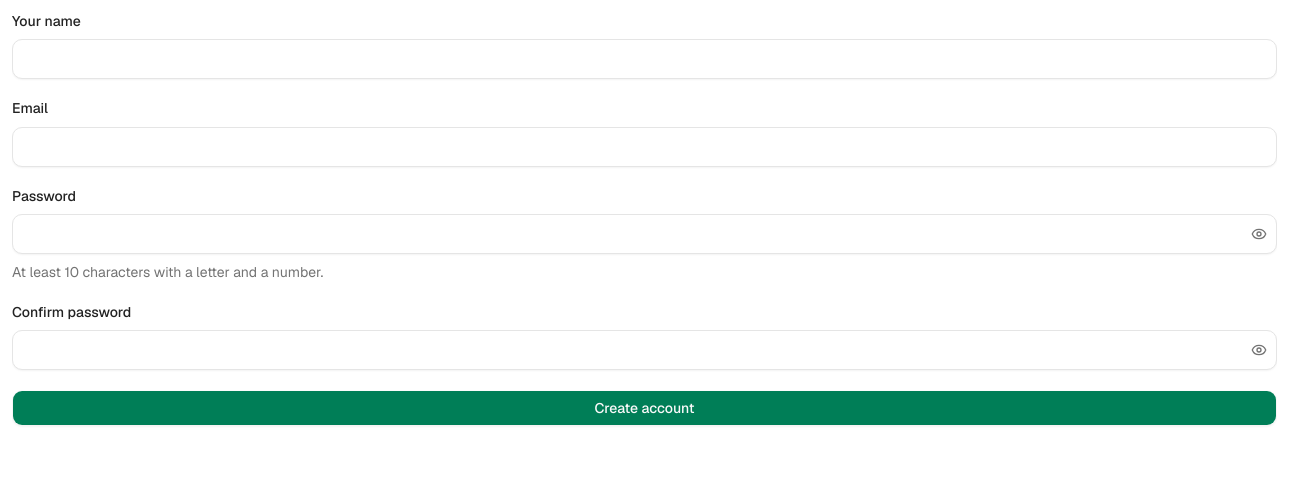
SignupForm › enforces password policy and confirmation
Type "Asha" into the field labelled "Your name" at (644, 59), box left=12, top=39, right=1277, bottom=79
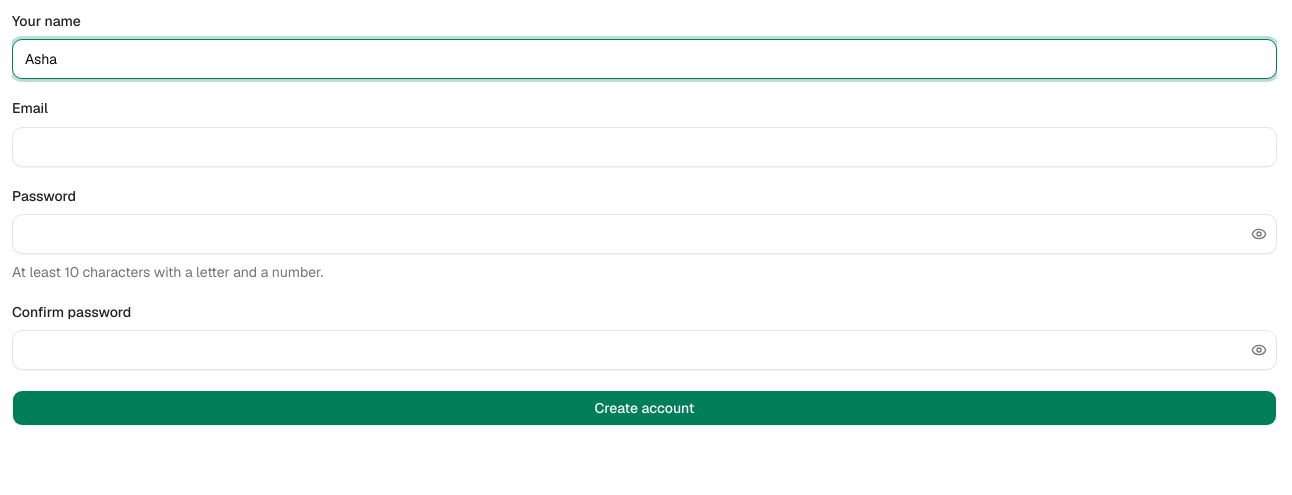
Type "asha@example.com" into the field labelled "Email" at (644, 146), box left=12, top=126, right=1277, bottom=166
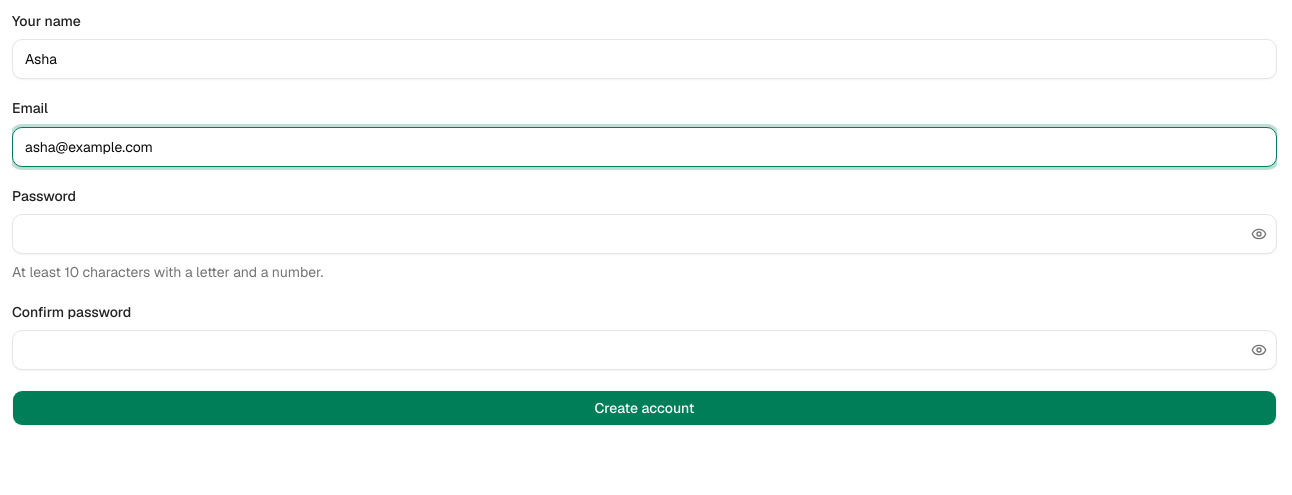
Type "short1" into the password field labelled "Password" at (644, 234), box left=12, top=214, right=1277, bottom=254
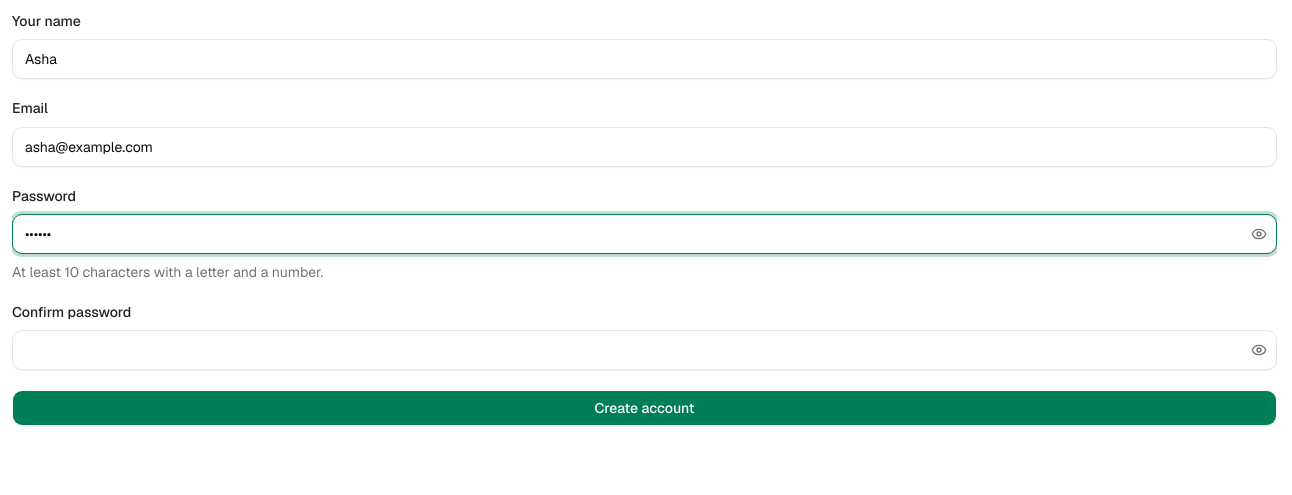
Type "different1" into the password field labelled "Confirm password" at (644, 350), box left=12, top=330, right=1277, bottom=370
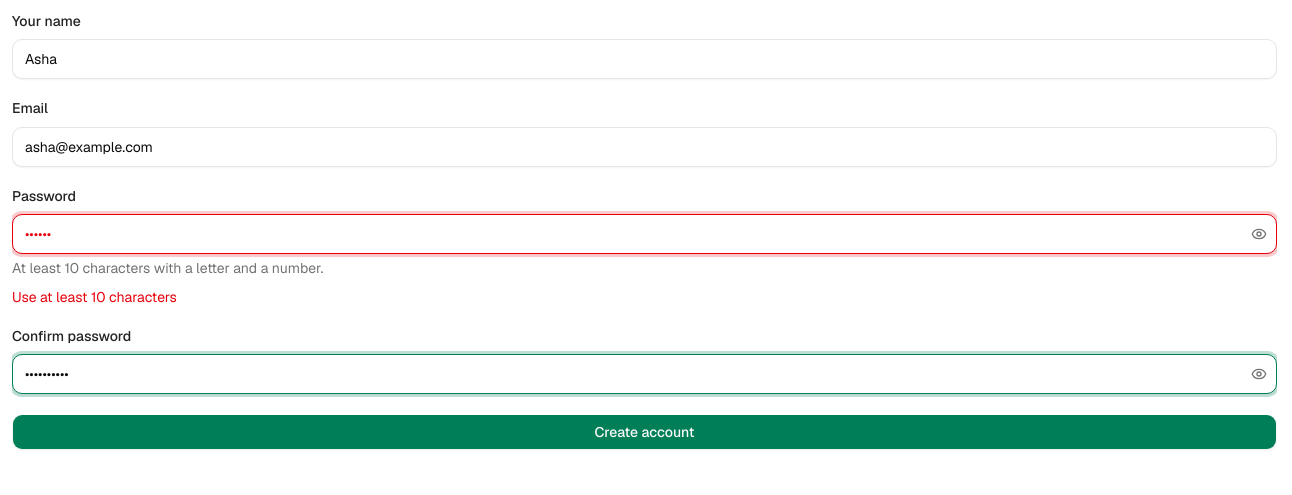
Click the button "Create account" at (644, 432), box left=12, top=414, right=1277, bottom=450
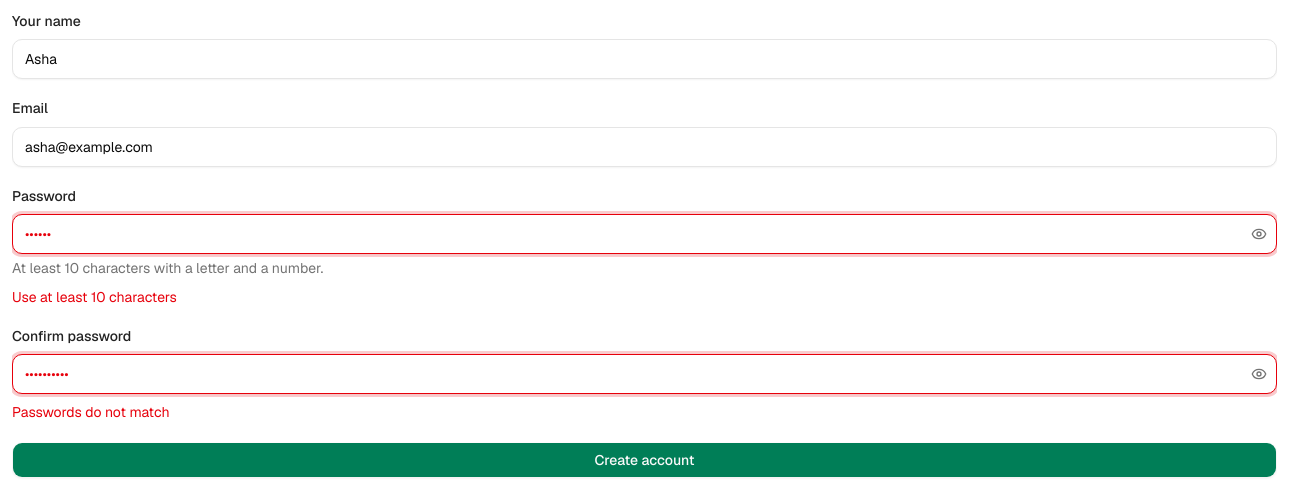
Expected: the text "Use at least 10 characters" is shown, left=12, top=288, right=177, bottom=306
Expected: the text "Passwords do not match" is shown, left=12, top=403, right=170, bottom=421
